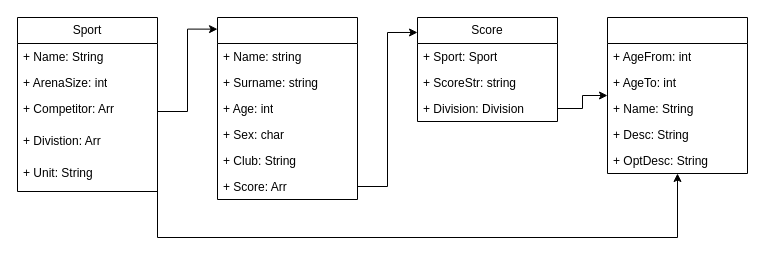
The diagram is 765 pixels wide and 263 high, and some of its shapes have lost their labels. Each missing label, with the box of its shape:
Competitor: (216, 16, 358, 200)
Divistion: (606, 16, 748, 174)
